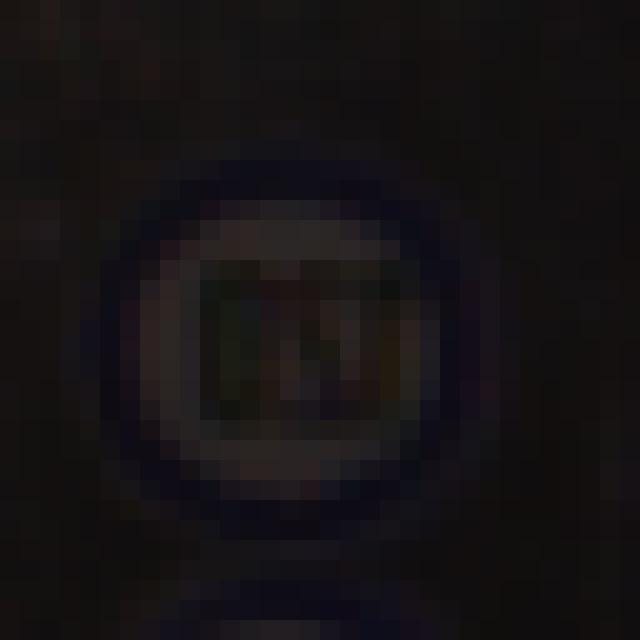SPEED LIMIT 120: (112, 192, 482, 514)
